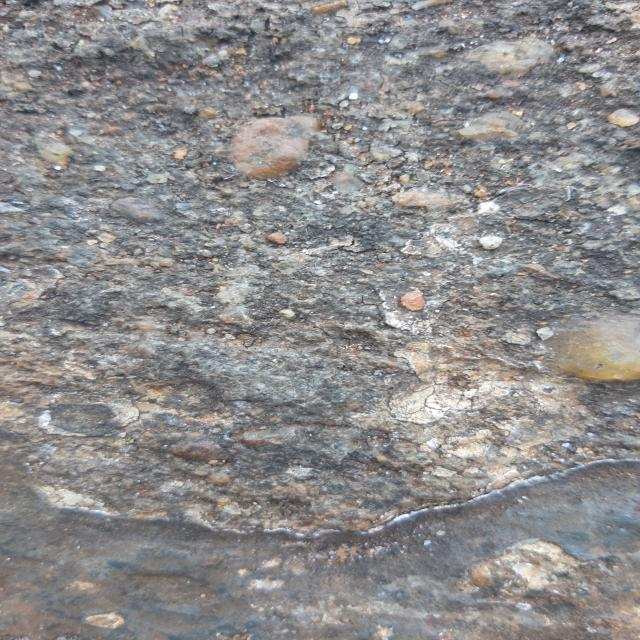tecoma: (160, 179, 331, 325)
